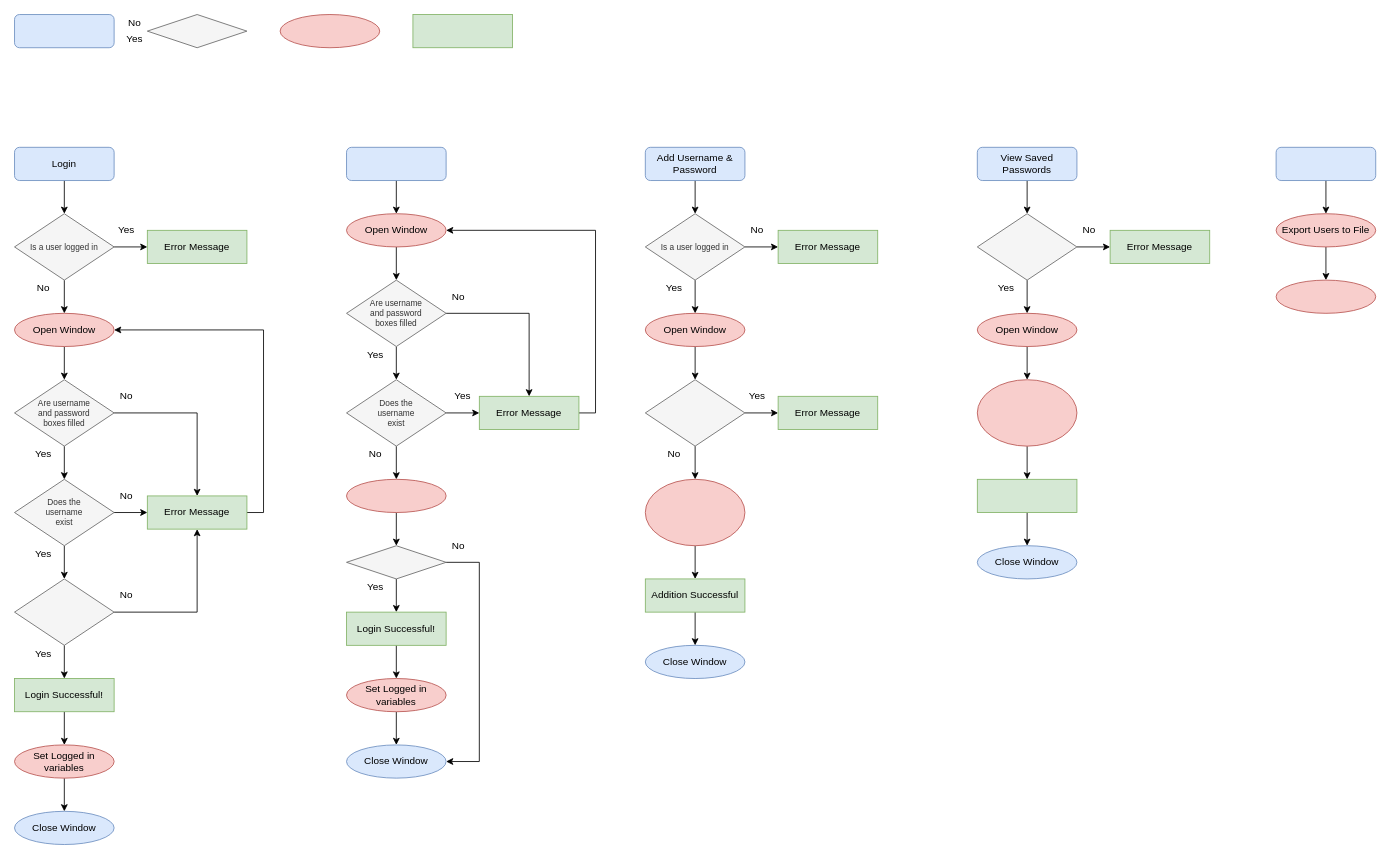
The diagram is 1390 pixels wide and 859 high, and some of its shapes have lost their labels. The shapes that lost their labels are listed below. From the top down, each one's centre as x and y in pixels, then its label:
At pixel 64 31: "User UI Action".
At pixel 196 31: "Decision".
At pixel 329 31: "System Action".
At pixel 462 31: "System Output".
At pixel 396 163: "Create Account".
At pixel 1325 163: "Logout".
At pixel 1026 246: "Are tehere any saved passwords".
At pixel 1325 296: "End Application".
At pixel 694 412: "Are any fields empty".
At pixel 1026 412: "Decrypt all saved and parse as printable string".
At pixel 396 495: "Create new User".
At pixel 694 512: "Encrypt and add data to users storage array".
At pixel 1026 495: "Printable String".
At pixel 396 562: "Login using details?".
At pixel 64 611: "Does the password match the user's".
